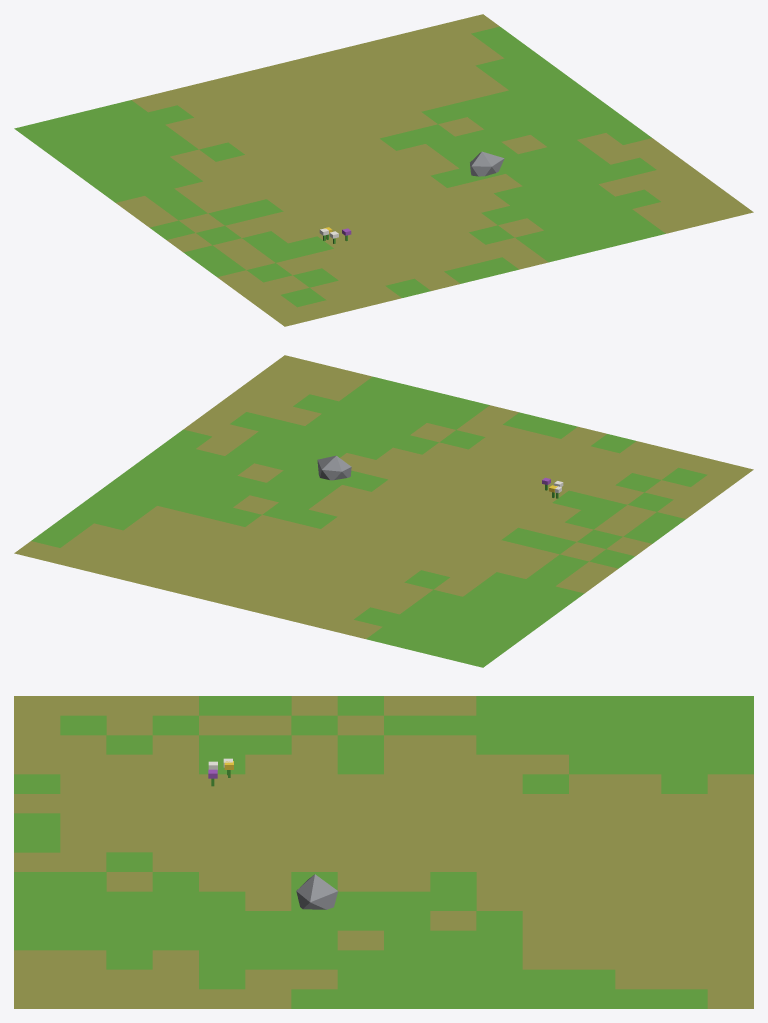
Rendered from chunk_9_4.glb.
3 views of the same model, one above another, from view 1: azimuth 30°, elevation 25°; view 2: azimuth 150°, elevation 25°; view 3: azimuth 270°, elevation 25° (orthographic). The views are drawn at different scales.
Visible parts, largest first — view 1: chunk_9_4; view 2: chunk_9_4; view 3: chunk_9_4.
Part boxes in pixels (bbox=[...]): chunk_9_4: bbox=[14, 14, 753, 326]; chunk_9_4: bbox=[14, 355, 753, 667]; chunk_9_4: bbox=[14, 696, 753, 1008].
Size of the model in its own units: 16 by 0.9784 by 16.
